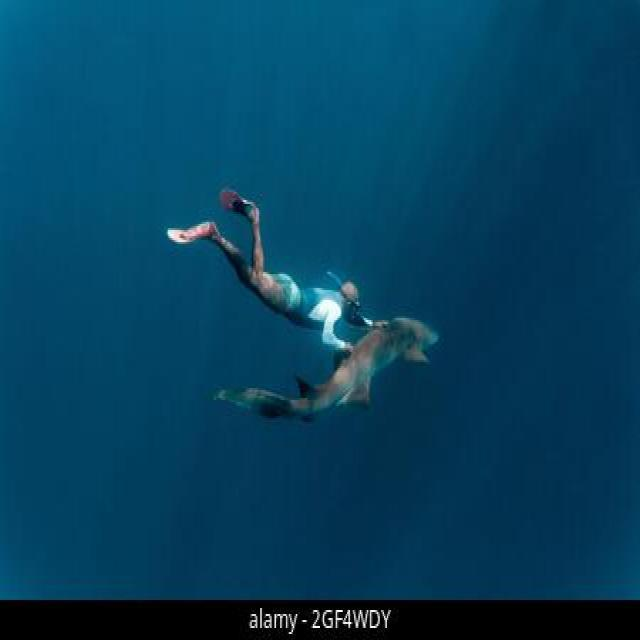Shark: (184, 276, 473, 436)
